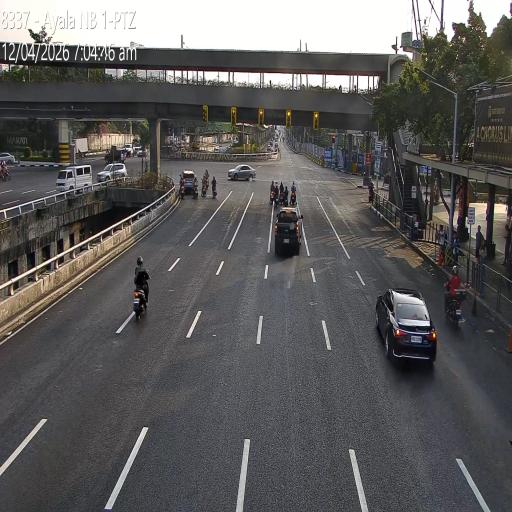Car: (374, 288, 434, 365), (274, 204, 304, 256), (56, 165, 92, 195), (96, 162, 128, 184), (180, 169, 198, 197), (227, 166, 255, 182), (104, 147, 127, 164), (122, 142, 136, 158), (0, 152, 16, 165), (137, 146, 148, 156)
Motor: (444, 265, 467, 330), (133, 260, 151, 318), (290, 179, 298, 205), (268, 178, 275, 204), (274, 181, 280, 209), (203, 167, 210, 190), (201, 178, 208, 198), (192, 178, 199, 198), (180, 178, 186, 198), (279, 180, 284, 204), (284, 184, 289, 207), (211, 180, 217, 197)
Not Accident: (268, 177, 298, 207), (105, 138, 135, 164), (178, 168, 199, 199), (202, 167, 210, 197)
